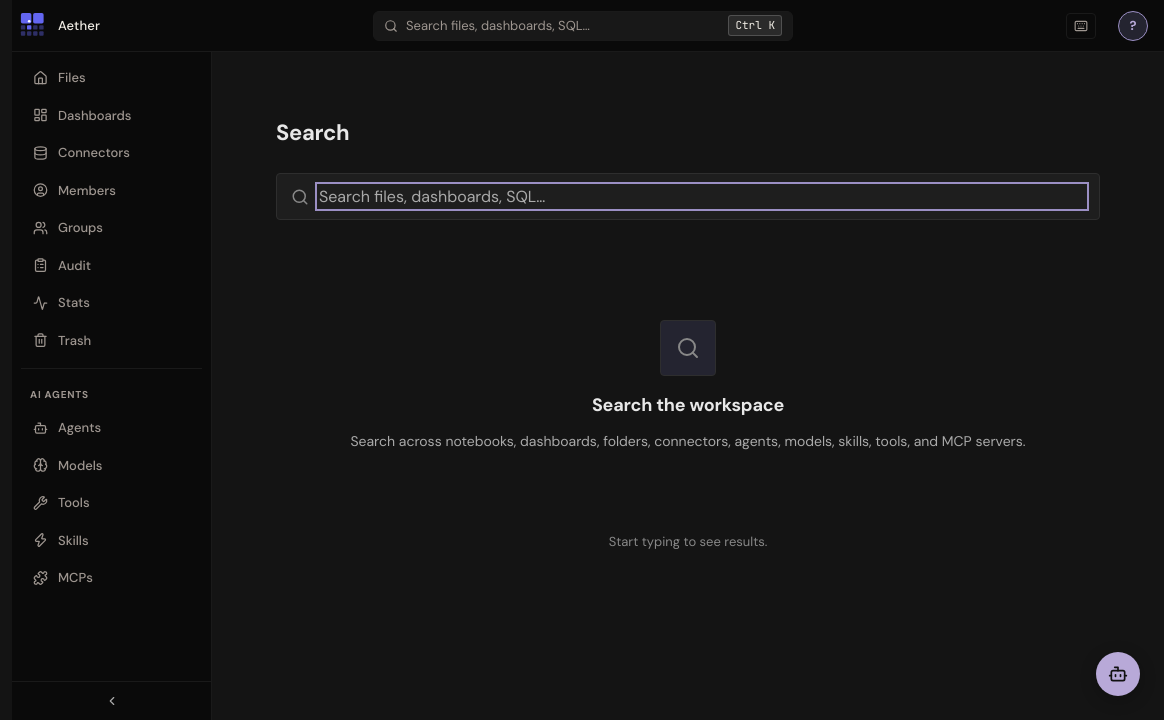
Scenario: SearchPage › typing debounces into the URL and refetches once
Type "r" into the field labelled "Search".
click(702, 196); type("r")  # box top-left (319, 186), bottom-right (1085, 207)
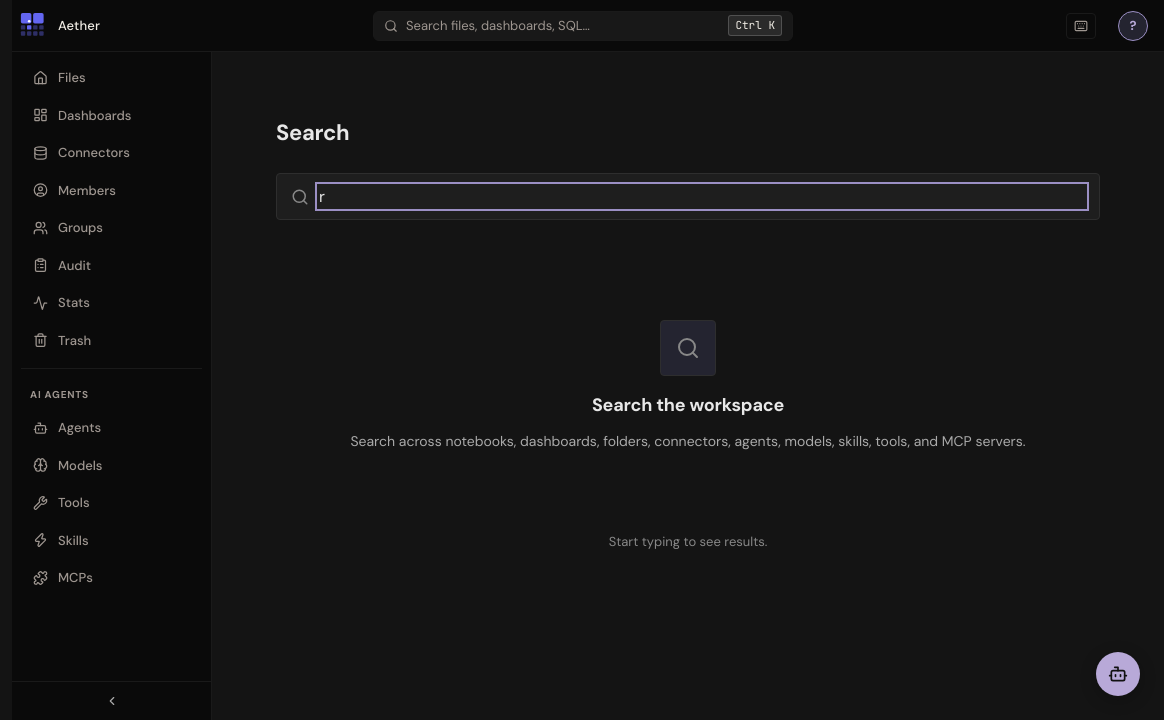
Replace the text in the field named "Search" with "re" at (702, 196), box top-left (319, 186), bottom-right (1085, 207)
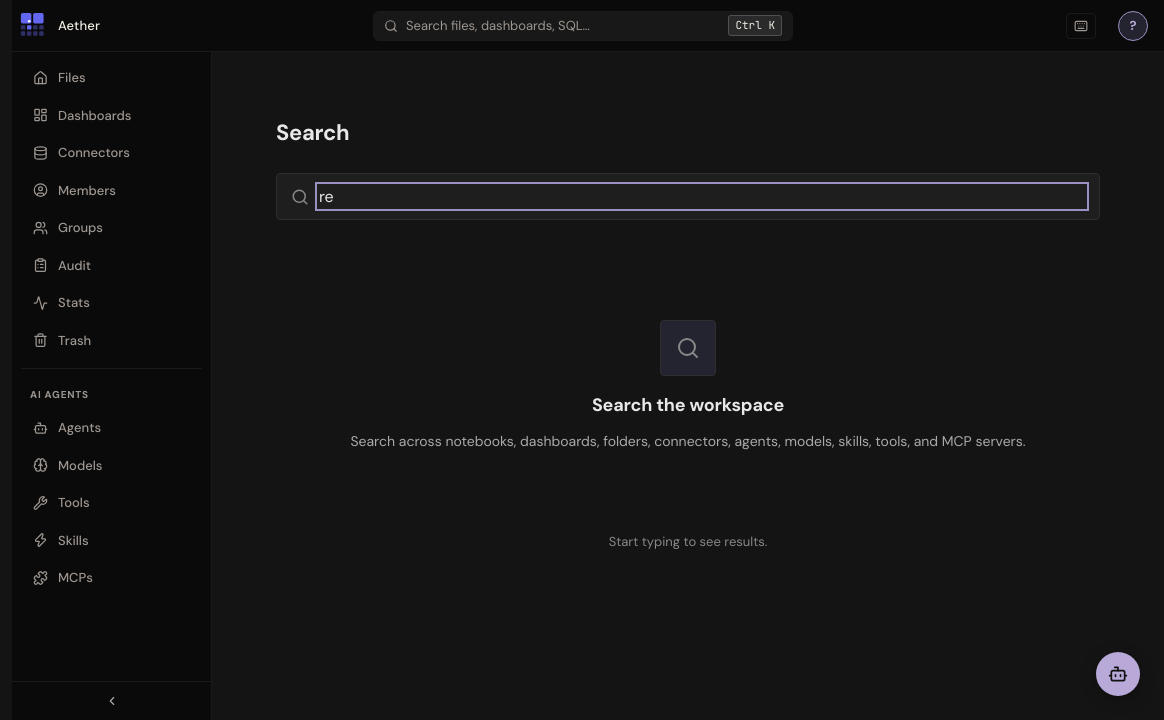
Replace the text in the field named "Search" with "rev" at (702, 196), box top-left (319, 186), bottom-right (1085, 207)
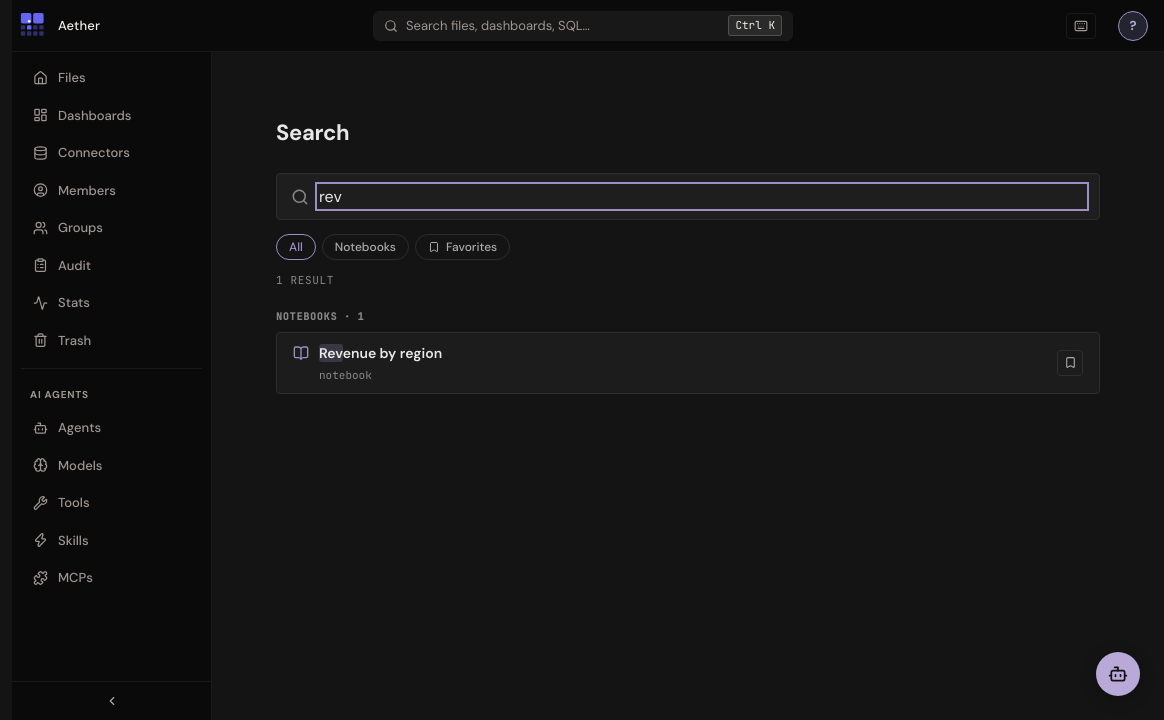
expect the link "Revenue by region notebook" is shown: met, box top-left (293, 344), bottom-right (442, 382)
